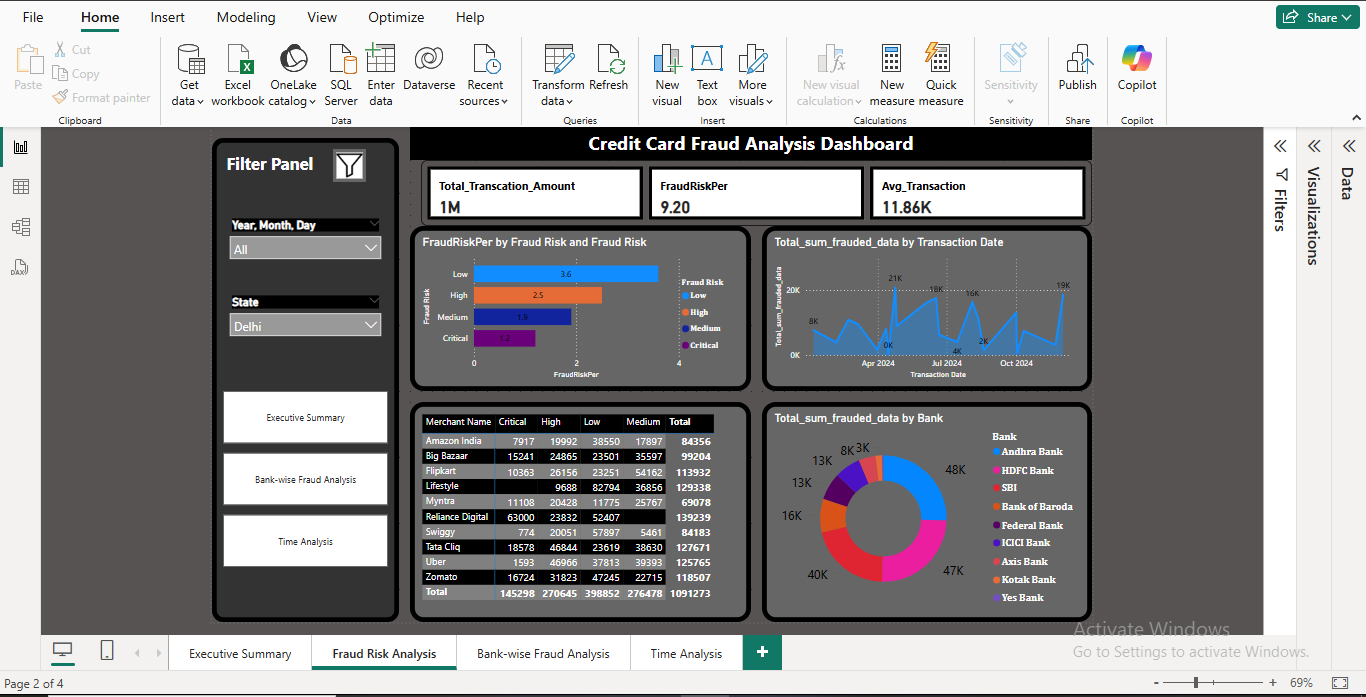

The page's visual inventory and layout, read from the dashboard file:
{"tool":"powerbi","page":{"name":"Fraud Risk Analysis","canvas":[1280,720],"ordinal":1},"visuals":[{"type":"shape","box":[0,16,272,704],"z":0},{"type":"textbox","box":[288,0,992,48],"z":1000},{"type":"textbox","box":[16,32,208,48],"z":2000},{"type":"image","box":[176,32,48,48],"z":3000},{"type":"slicer","fields":{"Values":["Credit Card Fraud Risk Analysis.State"]},"box":[16,240,240,80],"z":4000},{"type":"pageNavigator","box":[16,384,240,256],"z":5000},{"type":"barChart","fields":{"Category":["Credit Card Fraud Risk Analysis.Fraud Risk"],"Y":["Credit Card Fraud Risk Analysis.FraudRiskPer"],"Series":["Credit Card Fraud Risk Analysis.Fraud Risk"]},"box":[288,144,496,240],"z":6000},{"type":"pivotTable","fields":{"Rows":["Credit Card Fraud Risk Analysis.Merchant Name"],"Columns":["Credit Card Fraud Risk Analysis.Fraud Risk"],"Values":["Credit Card Fraud Risk Analysis.Total_Transcation_Amount"]},"box":[288,400,496,320],"z":7000},{"type":"areaChart","fields":{"Category":["Credit Card Fraud Risk Analysis.Transaction Date.Variation.Date Hierarchy.Year"],"Y":["Credit Card Fraud Risk Analysis.Total_sum_frauded_data"]},"box":[800,144,480,240],"z":8000},{"type":"donutChart","fields":{"Category":["Credit Card Fraud Risk Analysis.Bank"],"Y":["Credit Card Fraud Risk Analysis.Total_sum_frauded_data"]},"box":[800,400,480,320],"z":9000},{"type":"slicer","fields":{"Values":["Calender.Date.Variation.Date Hierarchy.Year","Calender.Date.Variation.Date Hierarchy.Month","Calender.Date.Variation.Date Hierarchy.Day"]},"box":[16,128,240,80],"z":10000},{"type":"cardVisual","fields":{"Data":["Credit Card Fraud Risk Analysis.Total_Transcation_Amount","Credit Card Fraud Risk Analysis.FraudRiskPer","Credit Card Fraud Risk Analysis.Avg_Transaction"]},"box":[304,48,976,96],"z":11000}]}

Visuals, with their boxes on the page's 1280x720 design canvas (x1, y1, x2, y2). These are canvas units, not pixel positions in the 1366x697 screenshot, which may show the page scaled, cropped or inside an application window:
shape: [0, 16, 272, 720]
textbox: [288, 0, 1280, 48]
textbox: [16, 32, 224, 80]
image: [176, 32, 224, 80]
slicer - Credit Card Fraud Risk Analysis.State: [16, 240, 256, 320]
pageNavigator: [16, 384, 256, 640]
barChart - Credit Card Fraud Risk Analysis.Fraud Risk x Credit Card Fraud Risk Analysis.FraudRiskPer: [288, 144, 784, 384]
pivotTable - Credit Card Fraud Risk Analysis.Merchant Name x Credit Card Fraud Risk Analysis.Fraud Risk: [288, 400, 784, 720]
areaChart - Credit Card Fraud Risk Analysis.Transaction Date.Variation.Date Hierarchy.Year x Credit Card Fraud Risk Analysis.Total_sum_frauded_data: [800, 144, 1280, 384]
donutChart - Credit Card Fraud Risk Analysis.Bank x Credit Card Fraud Risk Analysis.Total_sum_frauded_data: [800, 400, 1280, 720]
slicer - Calender.Date.Variation.Date Hierarchy.Year x Calender.Date.Variation.Date Hierarchy.Month: [16, 128, 256, 208]
cardVisual - Credit Card Fraud Risk Analysis.Total_Transcation_Amount x Credit Card Fraud Risk Analysis.FraudRiskPer: [304, 48, 1280, 144]
